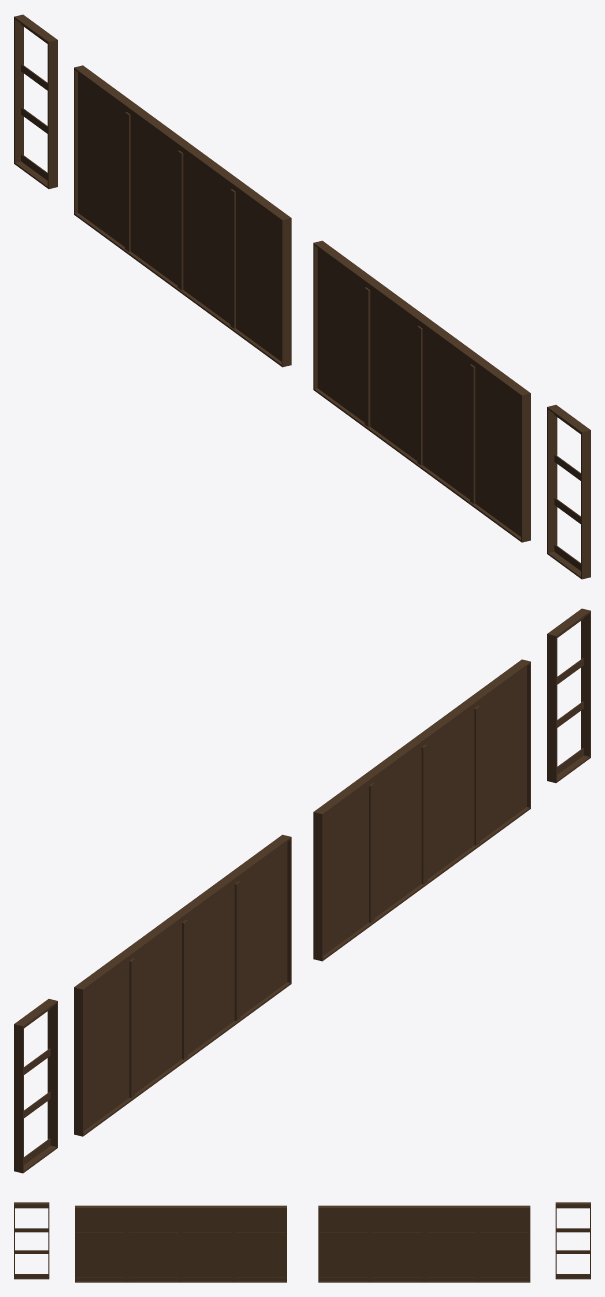
File: windows and doors.002.glb
3 views of the same model, one above another, from view 1: azimuth 30°, elevation 25°; view 2: azimuth 150°, elevation 25°; view 3: azimuth 270°, elevation 25° (orthographic). The views are drawn at different scales.
Parts seen in each view (by area): view 1: windows and doors.002; view 2: windows and doors.002; view 3: windows and doors.002.
Part boxes in pixels (box(x1,y1,x2,y2)): windows and doors.002: box(14, 14, 590, 579); windows and doors.002: box(14, 608, 590, 1173); windows and doors.002: box(14, 1202, 590, 1282).
Bounding box in the file's own units: 0.1385 × 2.24 × 14.93.
